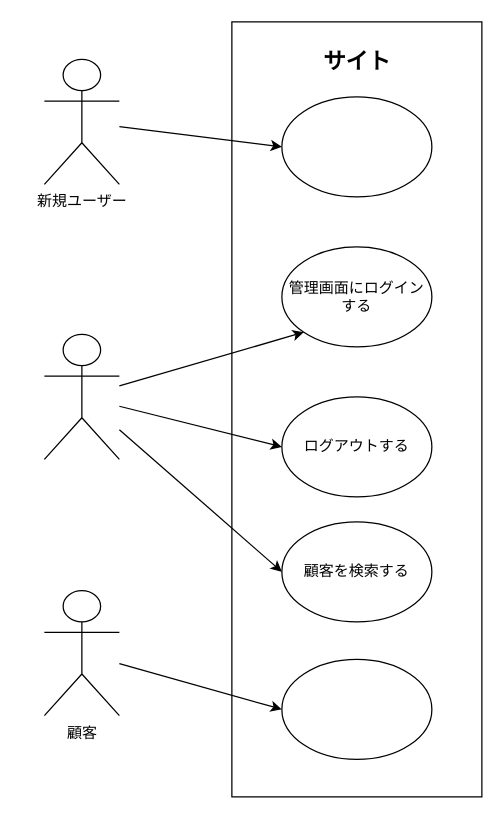
Image size: 504x819. Some labels were removed from this diagram. Here are the shapes that lost their labels. From the top down, the box of each, then its label:
(281, 96, 432, 197): 会員登録をする
(43, 333, 119, 459): 登録済みユーザー
(281, 658, 432, 759): 商品の問い合わせをする
